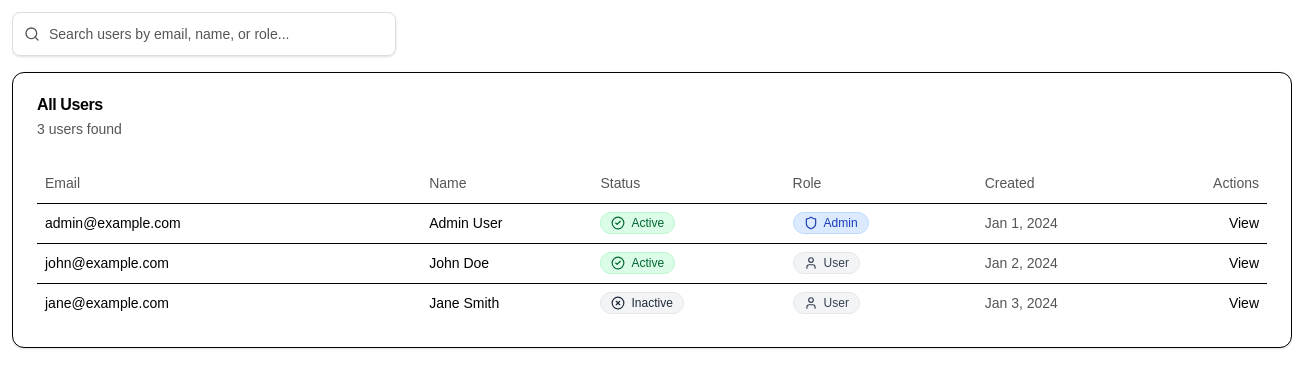
Test case: UserListTableWithSearch › filters users by email
# Search for 'john'
Type "john" into the field with placeholder "Search users by email, name, or role..." at (204, 34), box [12,12,396,56]
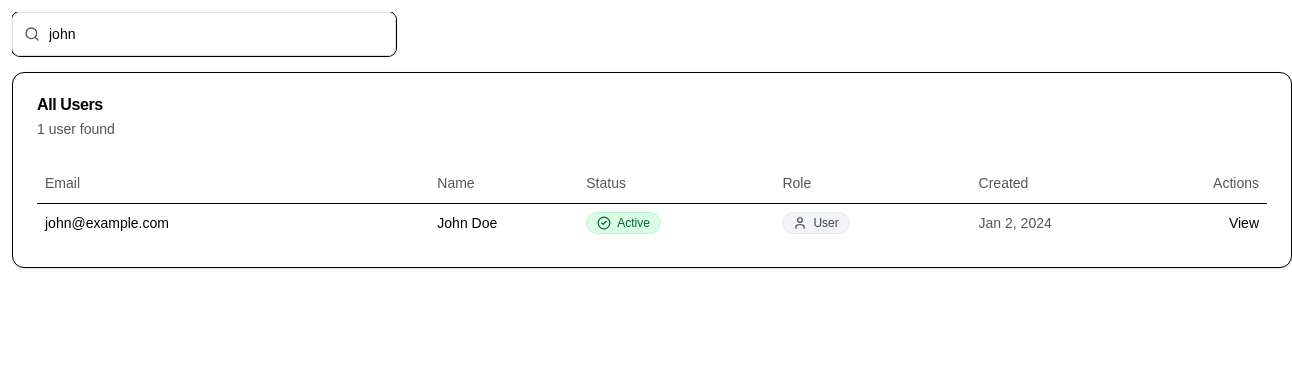
Now the text "1 user found" is shown, box [37,121,115,137]
Now the text "admin@example.com" is gone
Now the text "jane@example.com" is gone
